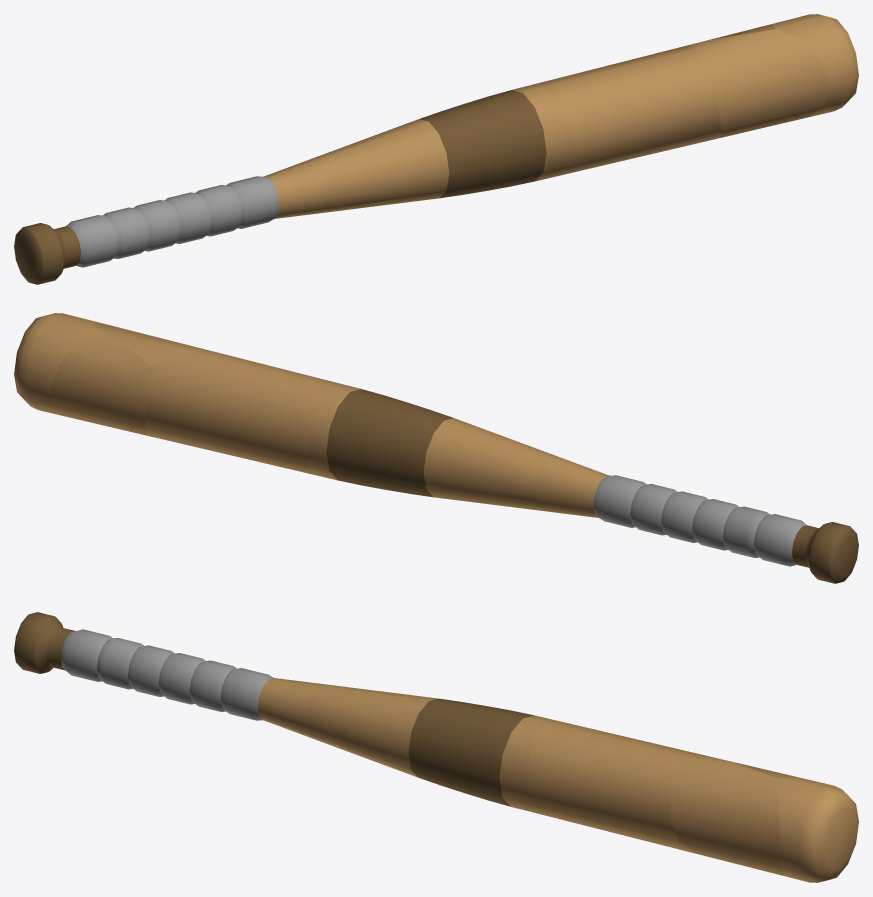
The model's file is Entity_BaseballBat-bkn.FBX.
3 views of the same model, one above another, from view 1: azimuth 30°, elevation 25°; view 2: azimuth 150°, elevation 25°; view 3: azimuth 330°, elevation 25° (orthographic).
Parts seen in each view (by area): view 1: BaseballBat_Part_4, BaseballBat_Part_3, BaseballBat_Part_6, BaseballBat_Part_5, BaseballBat_Part_1, BaseballBat_Part_2; view 2: BaseballBat_Part_4, BaseballBat_Part_3, BaseballBat_Part_6, BaseballBat_Part_7, BaseballBat_Part_1, BaseballBat_Part_2, BaseballBat_Part_5; view 3: BaseballBat_Part_4, BaseballBat_Part_3, BaseballBat_Part_5, BaseballBat_Part_6, BaseballBat_Part_2, BaseballBat_Part_1.
Boxes of the visible parts, box(x1,y1,x2,y2) form: BaseballBat_Part_4: box(317, 85, 575, 212); BaseballBat_Part_3: box(529, 45, 721, 174); BaseballBat_Part_6: box(110, 157, 331, 258); BaseballBat_Part_5: box(689, 29, 830, 137); BaseballBat_Part_1: box(14, 212, 126, 284); BaseballBat_Part_2: box(772, 14, 858, 116); BaseballBat_Part_4: box(307, 383, 558, 510); BaseballBat_Part_3: box(145, 346, 338, 474); BaseballBat_Part_6: box(533, 457, 762, 557); BaseballBat_Part_7: box(51, 328, 153, 435); BaseballBat_Part_1: box(747, 511, 858, 583); BaseballBat_Part_2: box(14, 313, 95, 415); BaseballBat_Part_5: box(95, 321, 193, 369); BaseballBat_Part_4: box(304, 685, 551, 814); BaseballBat_Part_3: box(528, 719, 712, 853); BaseballBat_Part_5: box(670, 757, 783, 875); BaseballBat_Part_6: box(102, 638, 330, 738); BaseballBat_Part_2: box(777, 776, 858, 882); BaseballBat_Part_1: box(14, 612, 120, 683).
Bounding box in the file's own units: 279 × 29.52 × 29.52.
